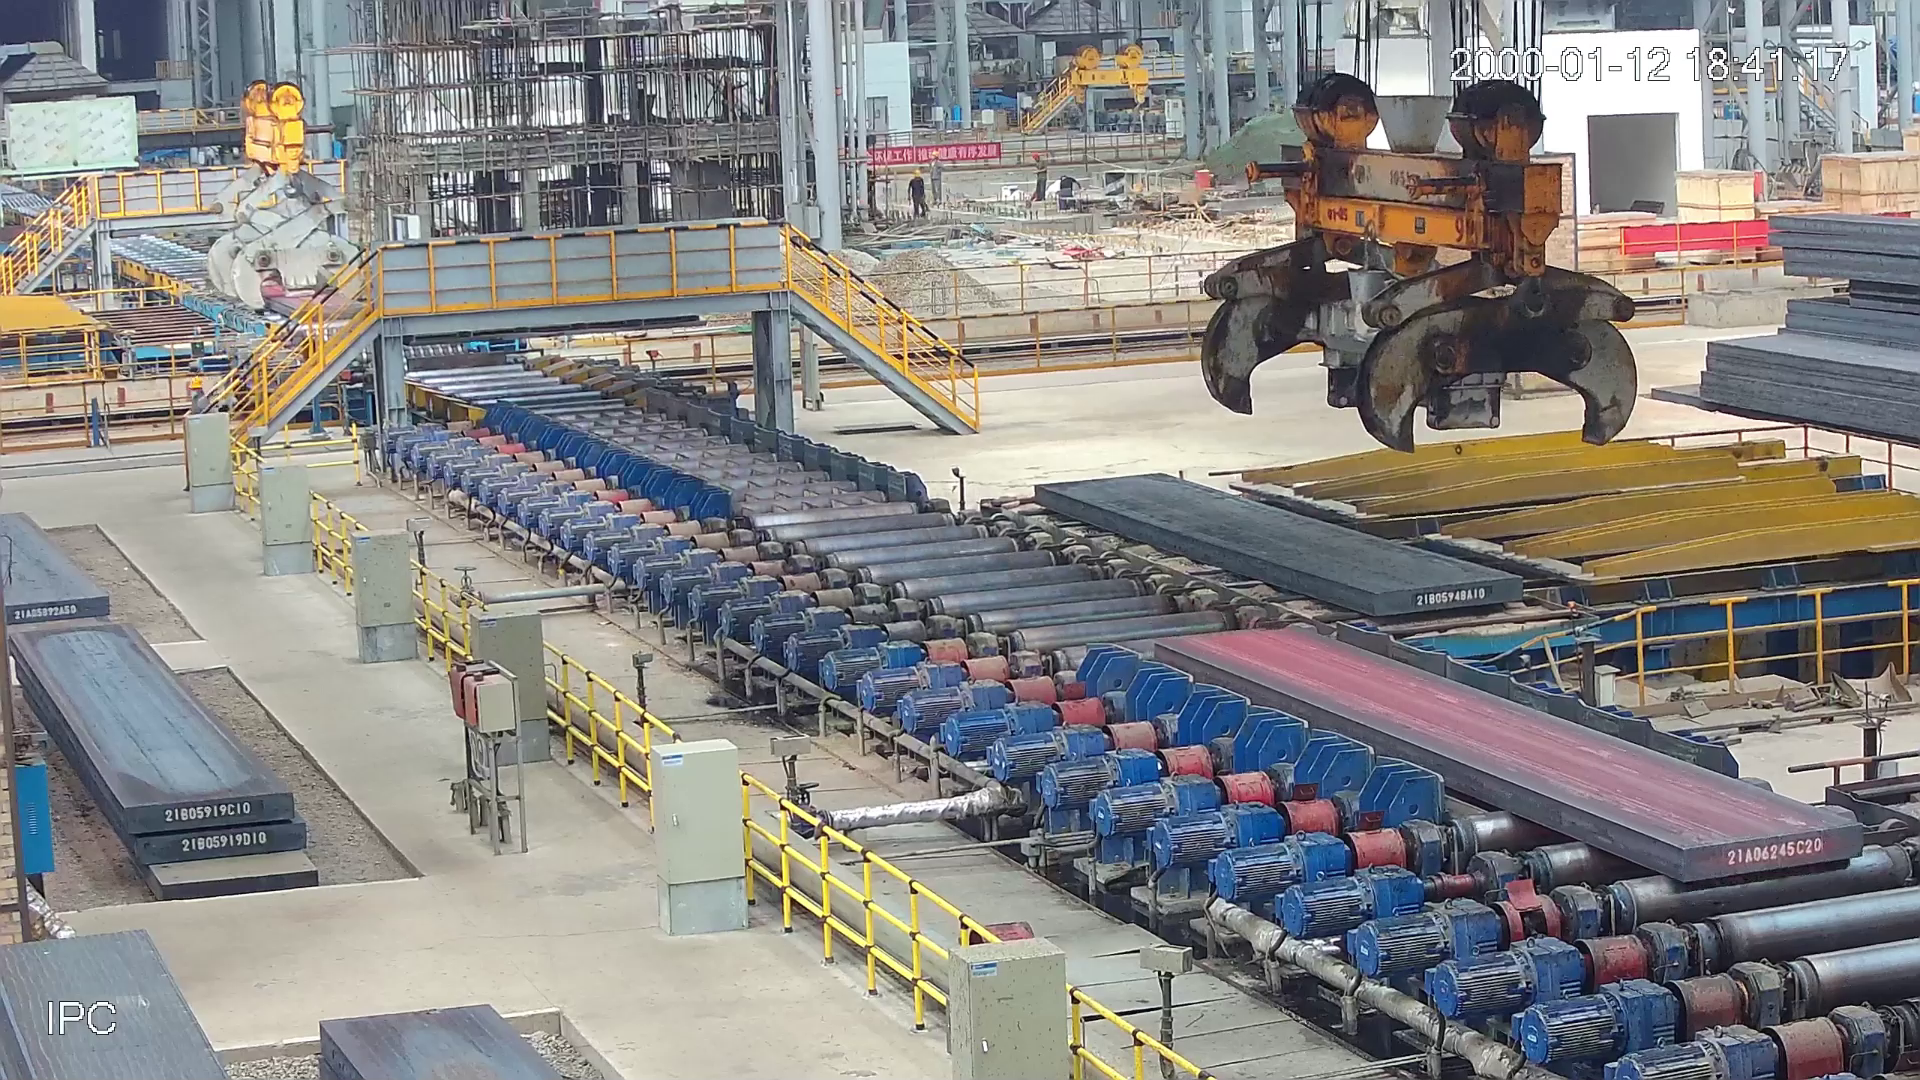crane: (1188, 55, 1644, 459)
craneandslab: (200, 76, 375, 326)
slab: (1145, 624, 1865, 889), (1026, 463, 1524, 622)
